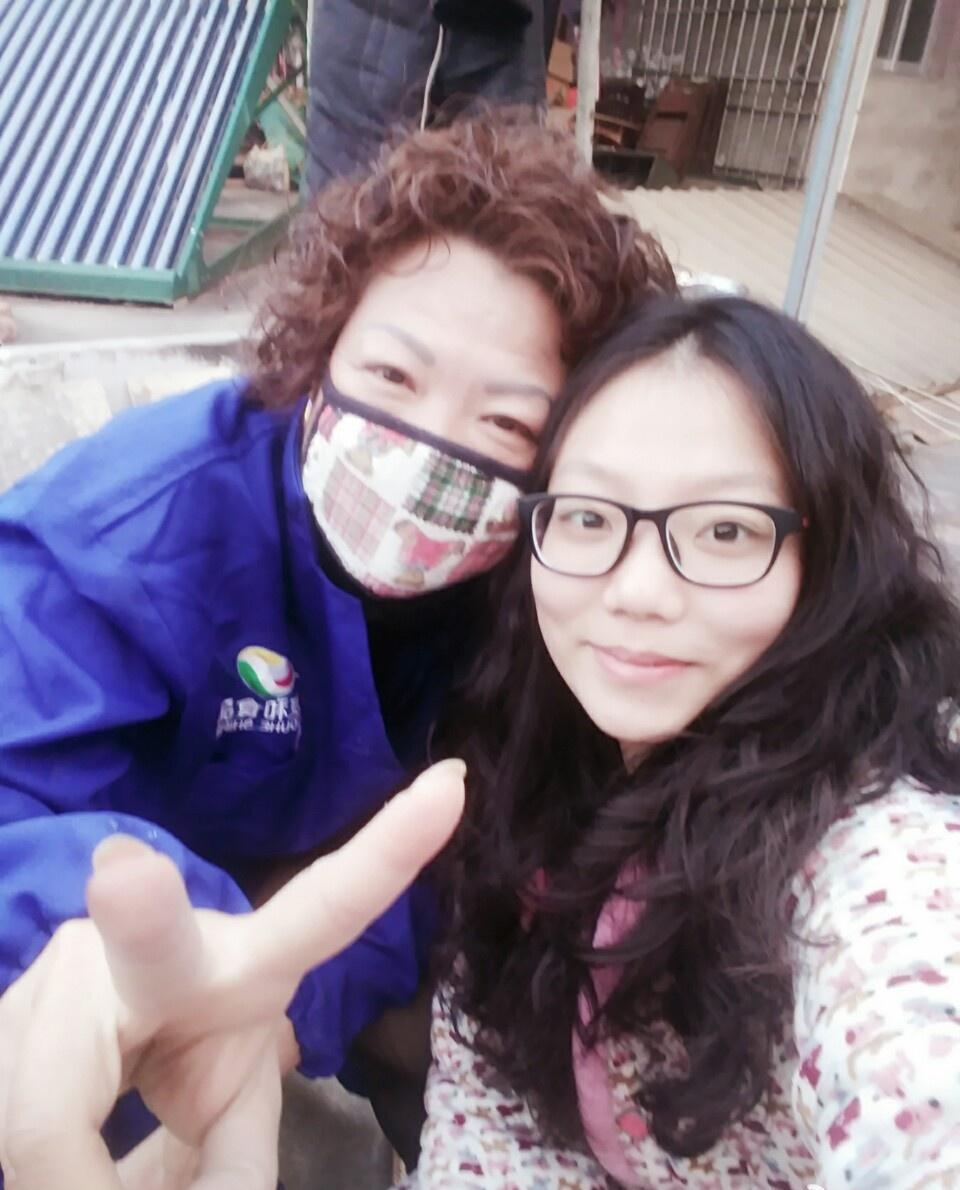NONE: (544, 456, 814, 736)
OK: (296, 286, 574, 599)
